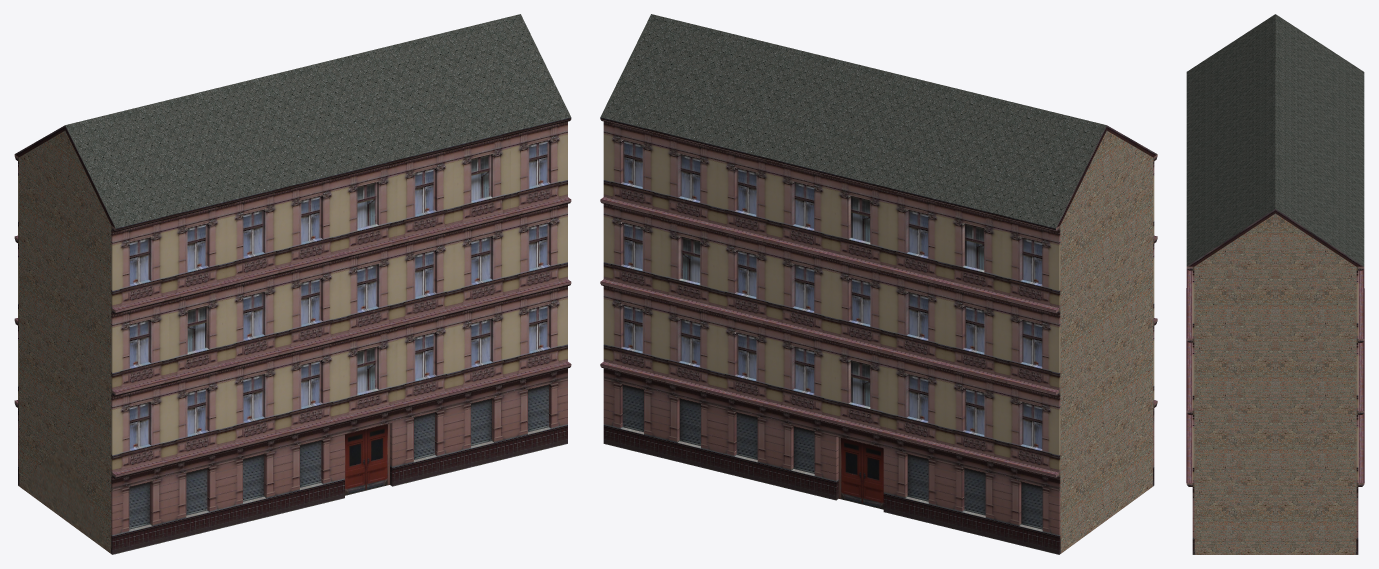
The model's file is PBP1_Building4_2sided.fbx.
3 views of the same model, side by side, from view 1: azimuth 30°, elevation 25°; view 2: azimuth 150°, elevation 25°; view 3: azimuth 270°, elevation 25° (orthographic). The views are drawn at different scales.
Visible parts, largest first — view 1: PBP1_Building4_2sided; view 2: PBP1_Building4_2sided; view 3: PBP1_Building4_2sided.
Part boxes in pixels (x1,y1,x2,y2): PBP1_Building4_2sided: (14, 14, 571, 554); PBP1_Building4_2sided: (600, 14, 1157, 554); PBP1_Building4_2sided: (1186, 14, 1364, 554).
Bounding box in the file's own units: 751 × 1942 × 1609.
